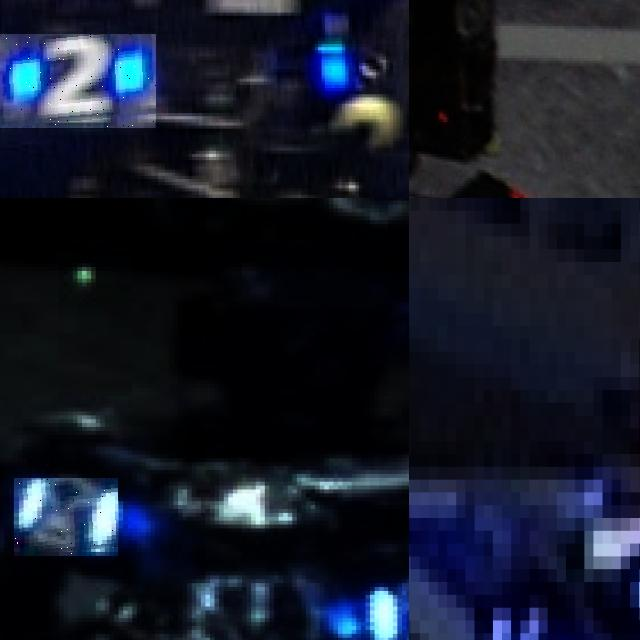B2: (0, 34, 156, 128)
Bs: (14, 478, 118, 556), (365, 579, 409, 640)
